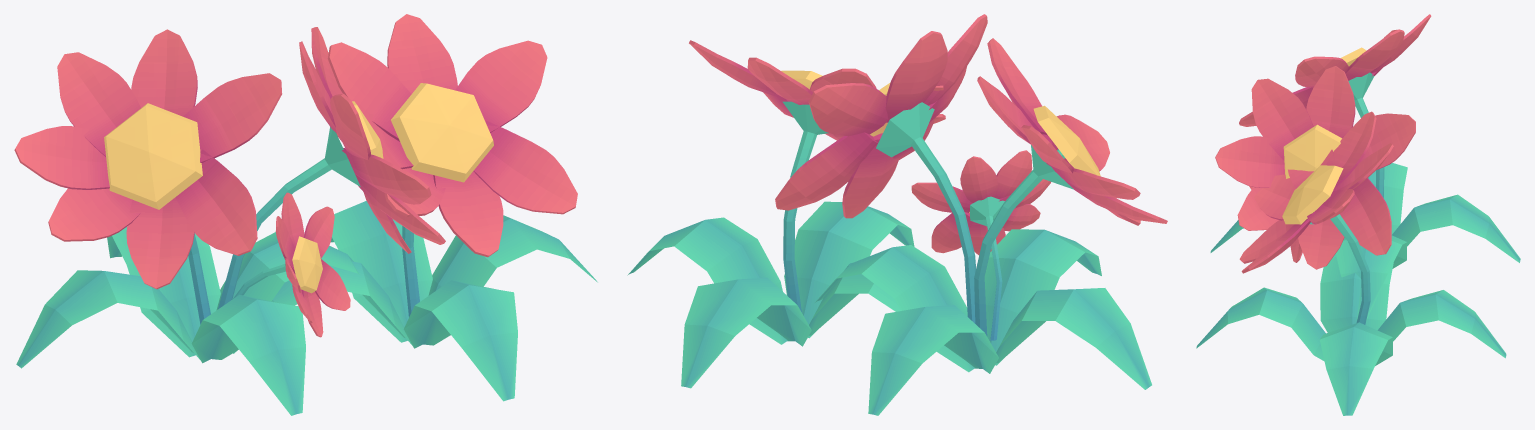
Rendered from flower1.glb.
3 views of the same model, side by side, from view 1: azimuth 30°, elevation 25°; view 2: azimuth 150°, elevation 25°; view 3: azimuth 270°, elevation 25° (orthographic). The views are drawn at different scales.
Visible parts, largest first — view 1: flower.002, flower.001; view 2: flower.002, flower.001; view 3: flower.002, flower.001.
Part boxes in pixels (<box>): flower.002: <box>14,27,445,415</box>; flower.001: <box>233,14,597,401</box>; flower.002: <box>775,14,1167,415</box>; flower.001: <box>627,40,945,388</box>; flower.002: <box>1210,14,1520,320</box>; flower.001: <box>1196,111,1506,415</box>.
Size of the model in its own units: 0.668 by 0.3962 by 0.4489.
1 material, 1 textured.
